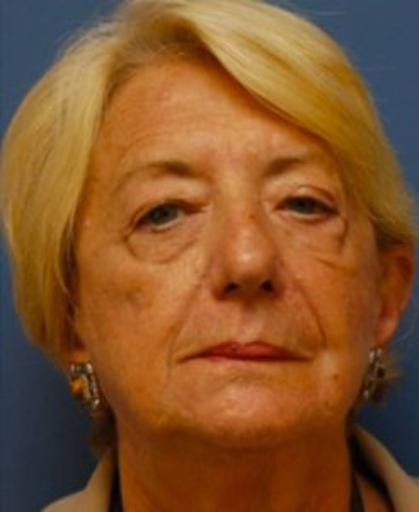left_eye: (273, 194, 336, 222)
left_lip_corner: (294, 348, 316, 368)
right_eye: (132, 201, 205, 235)
right_lip_corner: (177, 347, 198, 370)
